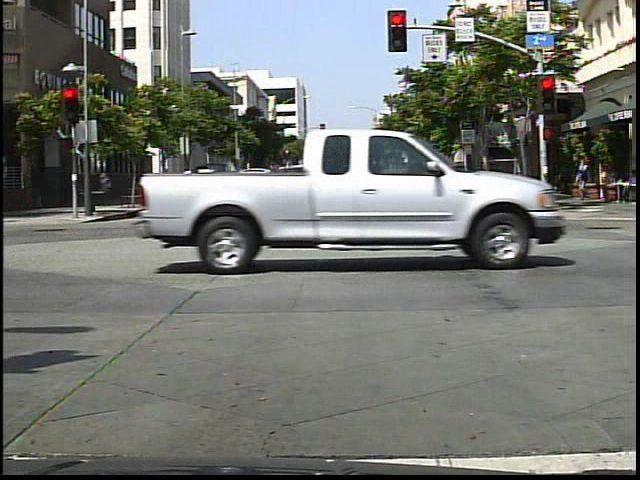person: (372, 163, 406, 239), (420, 161, 452, 225), (174, 166, 207, 225), (574, 157, 596, 206)
